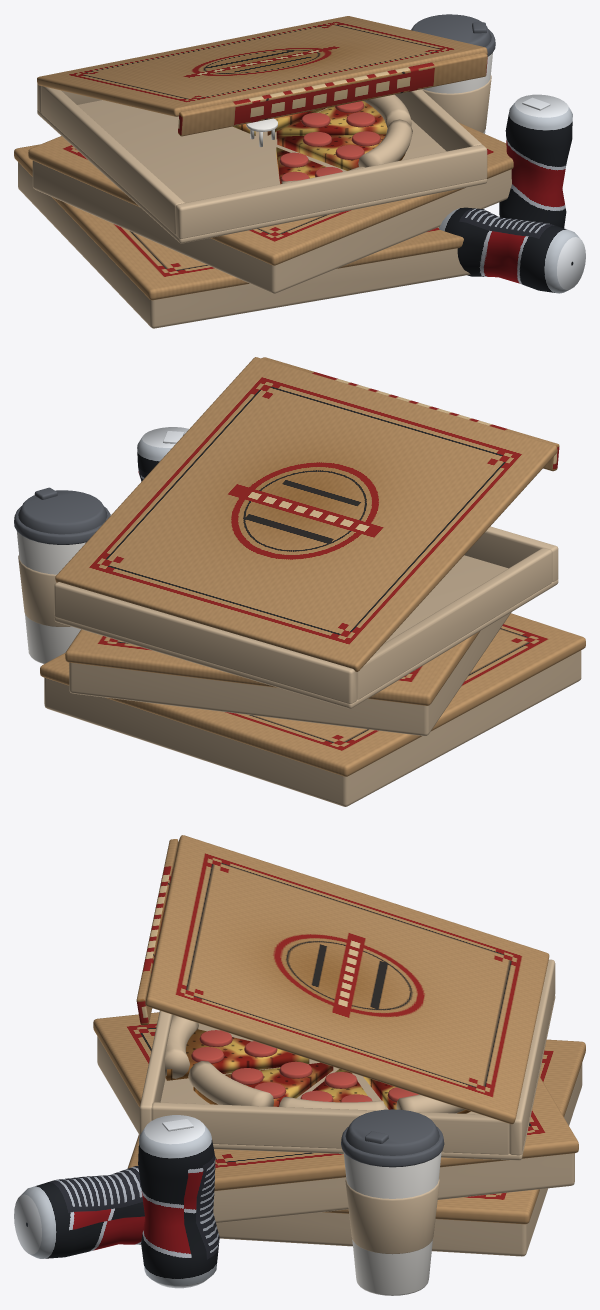
The model's file is prop_pizza_stack.glb.
3 renders of one model, top to bottom at view 1: azimuth 30°, elevation 25°; view 2: azimuth 150°, elevation 25°; view 3: azimuth 270°, elevation 25°, orthographic. The views are drawn at different scales.
Visible parts, largest first — view 1: prop_pizza_stack; view 2: prop_pizza_stack; view 3: prop_pizza_stack.
Part boxes in pixels (x1=…): prop_pizza_stack: x1=14, y1=14, x2=585, y2=328; prop_pizza_stack: x1=14, y1=357, x2=585, y2=806; prop_pizza_stack: x1=14, y1=835, x2=585, y2=1295.
Size of the model in its own units: 0.5019 by 0.2445 by 0.5062.
Materials: 8 (3 with a texture image).
